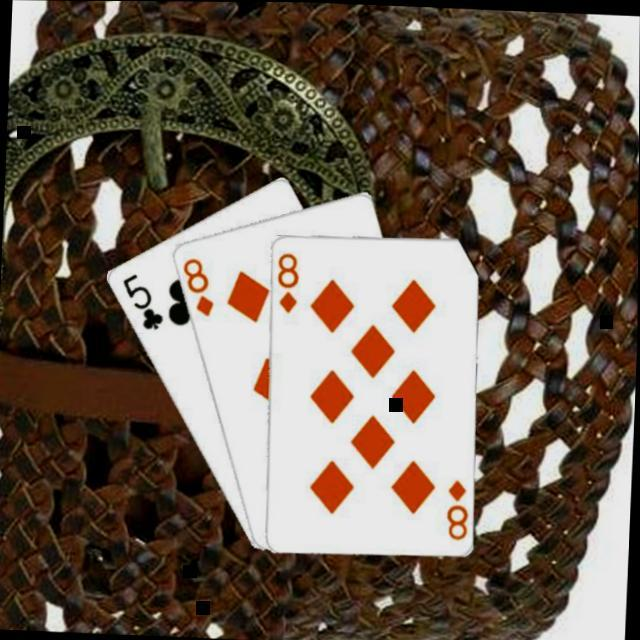5C: (118, 268, 168, 332)
8D: (178, 252, 218, 318), (274, 247, 302, 314), (443, 473, 471, 540)
